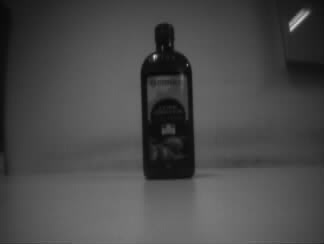Bottle: (140, 23, 196, 179)
